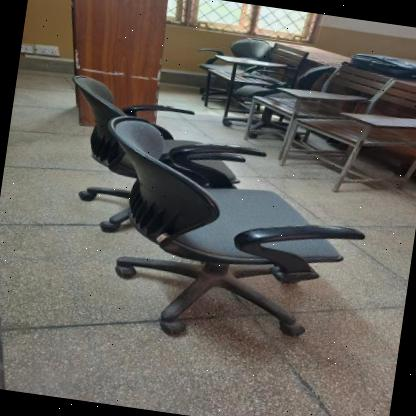chair: (66, 108, 382, 362), (50, 66, 214, 233)
